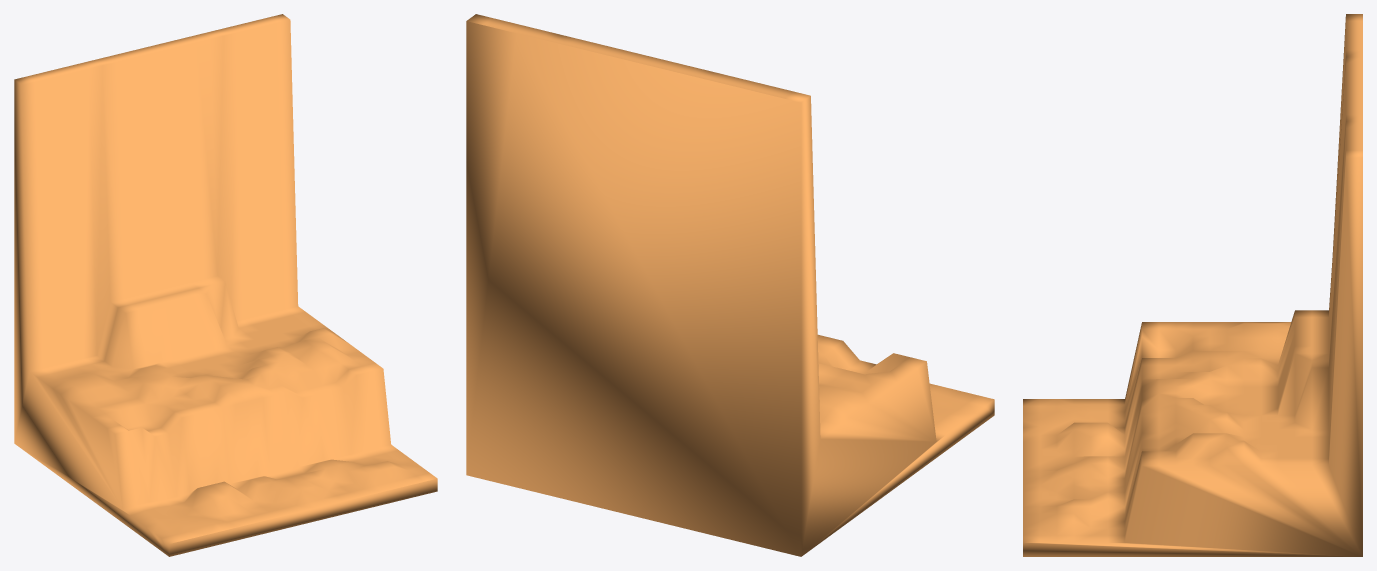
Rendered from right1.fbx.
The picture shows the model from 3 angles, left to right: view 1: azimuth 30°, elevation 25°; view 2: azimuth 150°, elevation 25°; view 3: azimuth 270°, elevation 25°; orthographic projection. The views are drawn at different scales.
Visible parts, largest first — view 1: Model; view 2: Model; view 3: Model.
Part boxes in pixels (x1=…): Model: x1=14, y1=14, x2=437, y2=556; Model: x1=466, y1=14, x2=994, y2=556; Model: x1=1023, y1=14, x2=1362, y2=556.
Size of the model in its own units: 1000 by 1296 by 1000.
